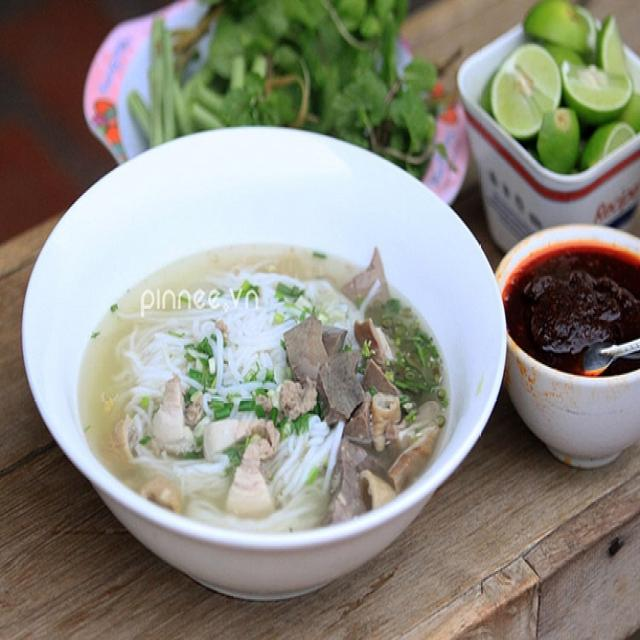汤锅炖物: (38, 127, 492, 577)
